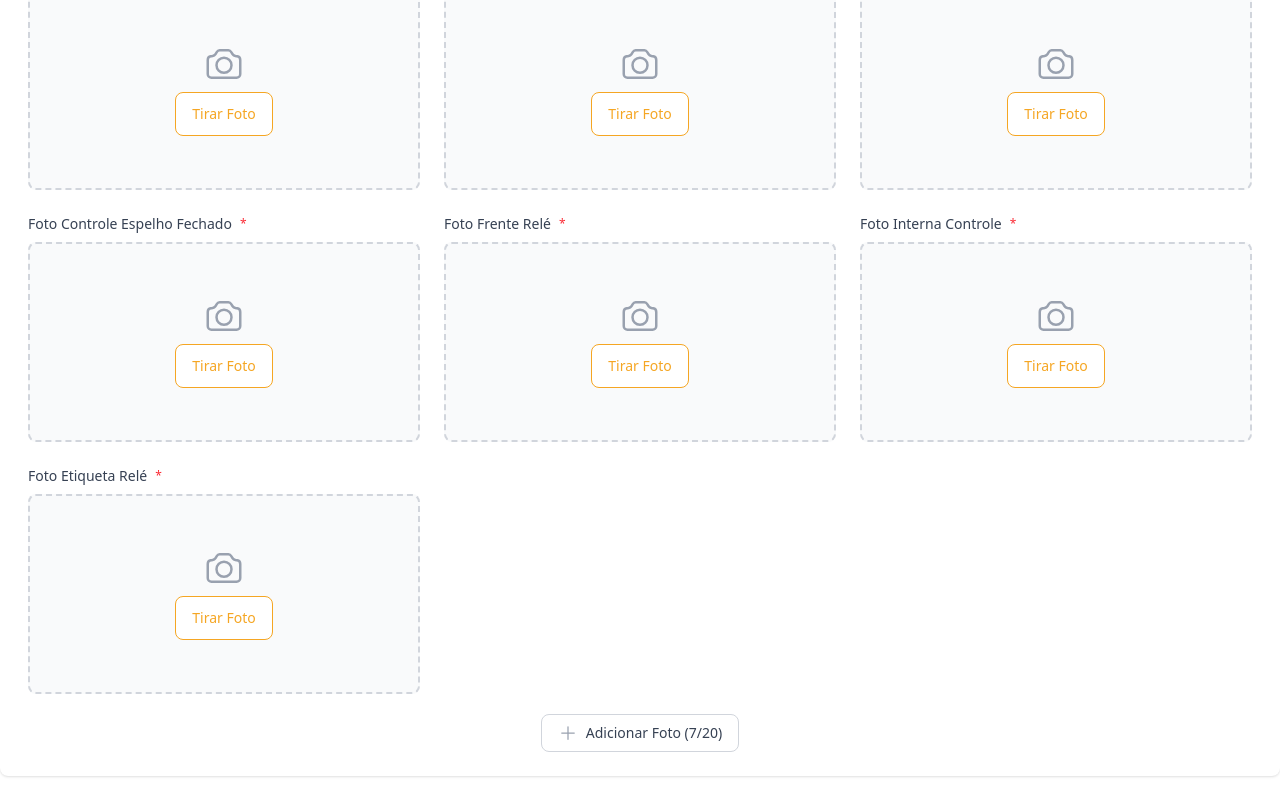
PhotoSection - Dynamic photos (RF-08) › adds a new dynamic slot when clicking 'Adicionar Foto'
(page scrolled)
Click the button with test id "add-photo-btn": x=640, y=733 [541,714,739,752]
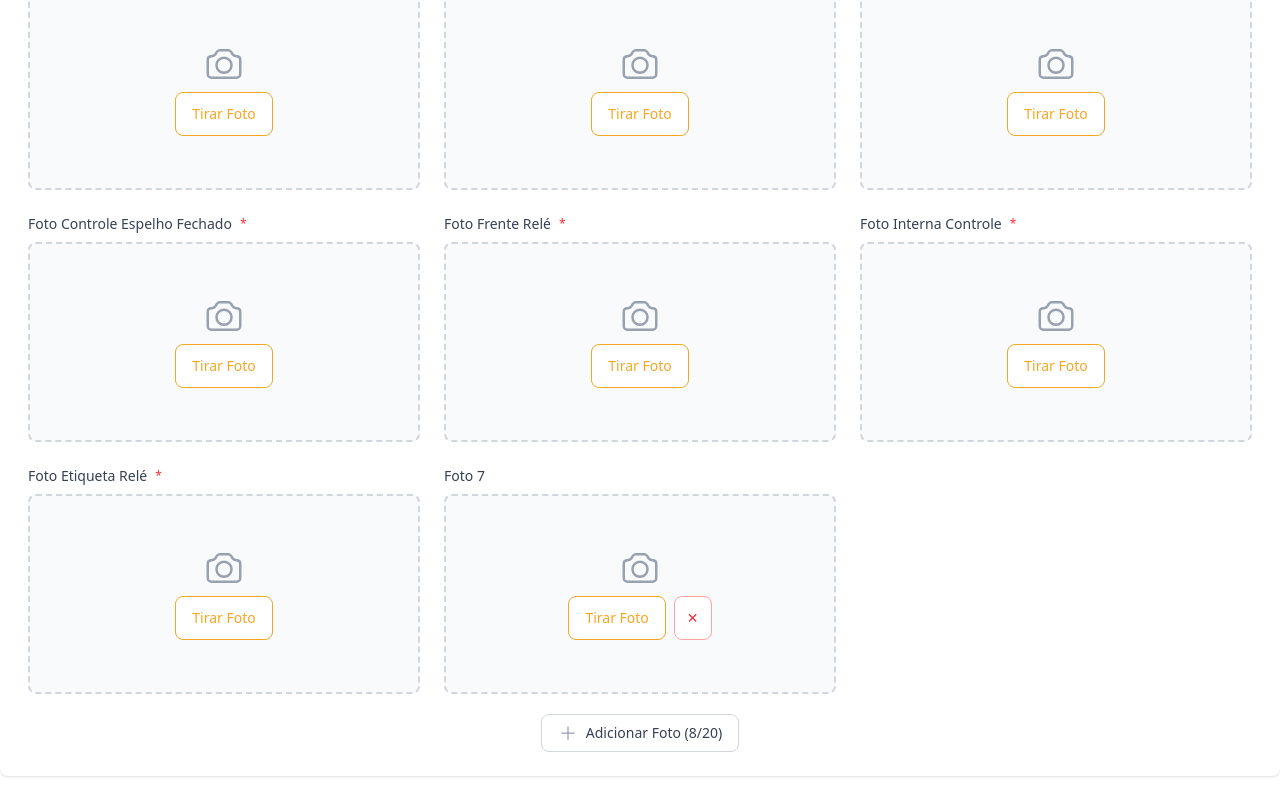
Check: the text "Foto 7" is shown, box [444,466,485,486]
